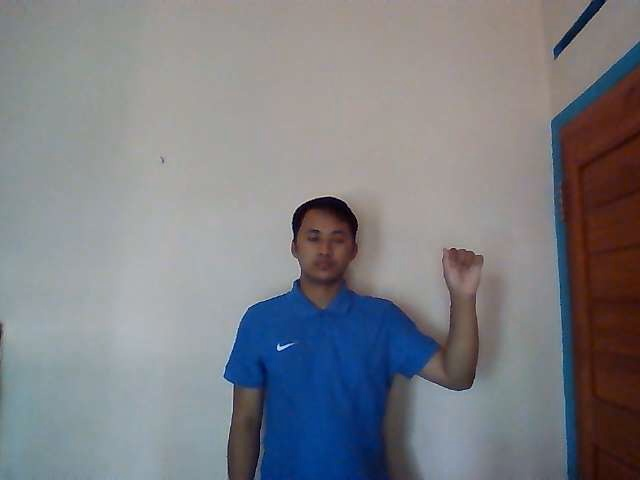A: (441, 247, 485, 295)
